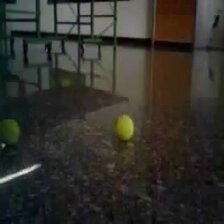tennis: (114, 114, 135, 142), (1, 118, 21, 146)
